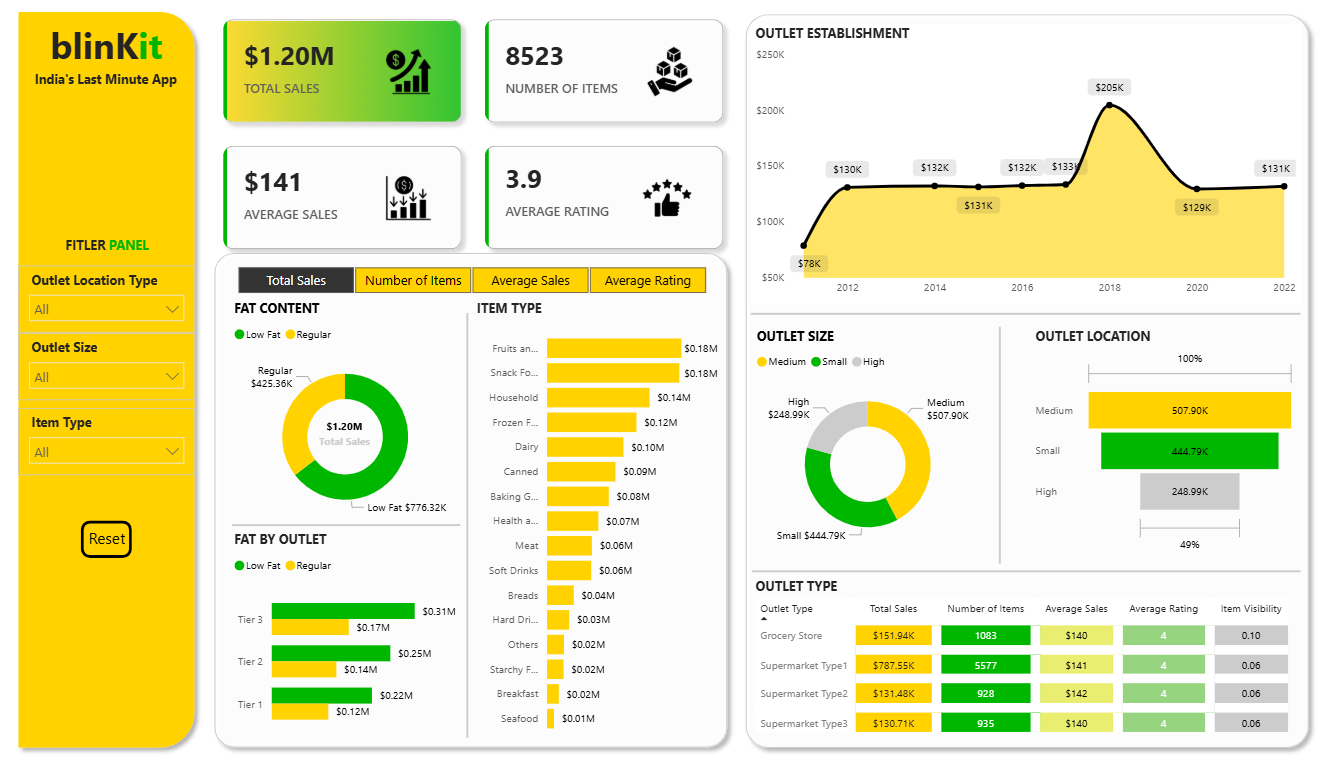

The page's visual inventory and layout, read from the dashboard file:
{"tool":"powerbi","page":{"name":"blinKit Analysis Dashboard","canvas":[1400,800],"ordinal":0},"visuals":[{"type":"shape","box":[18.6,10.5,200.9,780.9],"z":0},{"type":"textbox","box":[50.4,23.2,136.1,67.4],"z":1000},{"type":"textbox","box":[18.6,75.3,199.7,30.5],"z":2000},{"type":"cardVisual","fields":{"Data":["BlinkIT Grocery Data.Total Sales","BlinkIT Grocery Data.Number of Items","BlinkIT Grocery Data.Average Sales","BlinkIT Grocery Data.Average Rating"]},"box":[222.4,9.9,552.9,272.9],"z":3000},{"type":"shape","box":[222.1,261,549.4,530.3],"z":4000},{"type":"donutChart","title":"FAT CONTENT","fields":{"Y":["BlinkIT Grocery Data.Total Sales"],"Category":["BlinkIT Grocery Data.Item Fat Content"]},"box":[246.2,317,240,240],"z":5000},{"type":"slicer","fields":{"Values":["Metrics.Metrics"]},"box":[229.7,277.5,534.2,39.4],"z":6000},{"type":"cardVisual","fields":{"Data":["BlinkIT Grocery Data.Total Sales"]},"box":[295.8,426.3,140,60],"z":7000},{"type":"clusteredBarChart","title":"FAT BY OUTLET","fields":{"Y":["BlinkIT Grocery Data.Total Sales"],"Category":["BlinkIT Grocery Data.Outlet Location Type"],"Series":["BlinkIT Grocery Data.Item Fat Content"]},"box":[246.2,557.3,240.4,220],"z":8000},{"type":"shape","box":[248.8,526.8,236.6,48.3],"z":9000},{"type":"shape","box":[476.4,332.2,31.8,440],"z":10000},{"type":"barChart","title":"ITEM TYPE","fields":{"Y":["BlinkIT Grocery Data.Total Sales"],"Category":["BlinkIT Grocery Data.Item Type"]},"box":[496.8,317,260,460.4],"z":11000},{"type":"shape","box":[771.5,13,601.6,778.3],"z":12000},{"type":"lineChart","title":"OUTLET ESTABLISHMENT","fields":{"Y":["BlinkIT Grocery Data.Total Sales"],"Category":["BlinkIT Grocery Data.Outlet Establishment Year"]},"box":[786.7,32.1,570,290],"z":13000},{"type":"shape","box":[786.7,308.1,569.8,48.3],"z":14000},{"type":"donutChart","title":"OUTLET SIZE","fields":{"Y":["BlinkIT Grocery Data.Total Sales"],"Category":["BlinkIT Grocery Data.Outlet Size"]},"box":[788,346.2,240.4,240],"z":15000},{"type":"funnel","title":"OUTLET LOCATION","fields":{"Y":["Sum(BlinkIT Grocery Data.Sales)"],"Category":["BlinkIT Grocery Data.Outlet Size"]},"box":[1076.7,346.2,280,240],"z":16000},{"type":"pivotTable","title":"OUTLET TYPE","fields":{"Rows":["BlinkIT Grocery Data.Outlet Type"],"Values":["BlinkIT Grocery Data.Total Sales","BlinkIT Grocery Data.Number of Items","BlinkIT Grocery Data.Average Sales","BlinkIT Grocery Data.Average Rating","Avg(BlinkIT Grocery Data.Item Visibility)"]},"box":[786.7,604.4,569.8,173],"z":17000},{"type":"shape","box":[1028.4,346.2,31.8,245.5],"z":18000},{"type":"shape","box":[788,575.1,568.5,48.3],"z":19000},{"type":"slicer","fields":{"Values":["BlinkIT Grocery Data.Outlet Location Type"]},"box":[27.5,282.6,183.1,69.9],"z":20000},{"type":"slicer","fields":{"Values":["BlinkIT Grocery Data.Outlet Size"]},"box":[27.5,352.6,183.1,69.9],"z":21000},{"type":"slicer","fields":{"Values":["BlinkIT Grocery Data.Item Type"]},"box":[27.5,430.2,183.1,69.9],"z":22000},{"type":"textbox","box":[58,247,122.1,28],"z":23000},{"type":"actionButton","box":[92,546.6,53.1,38.9],"z":24000}]}

Visuals, with their boxes in screenshot pixels (x1, y1, x2, y2), scaled from the page's 1400x800 canvas onto the 1329x762 screenshot:
shape: (left=18, top=10, right=208, bottom=754)
textbox: (left=48, top=22, right=177, bottom=86)
textbox: (left=18, top=72, right=207, bottom=101)
cardVisual - BlinkIT Grocery Data.Total Sales x BlinkIT Grocery Data.Number of Items: (left=211, top=9, right=736, bottom=269)
shape: (left=211, top=249, right=732, bottom=754)
"FAT CONTENT" donutChart: (left=234, top=302, right=462, bottom=531)
slicer - Metrics.Metrics: (left=218, top=264, right=725, bottom=302)
cardVisual - BlinkIT Grocery Data.Total Sales: (left=281, top=406, right=414, bottom=463)
"FAT BY OUTLET" clusteredBarChart: (left=234, top=531, right=462, bottom=740)
shape: (left=236, top=502, right=461, bottom=548)
shape: (left=452, top=316, right=482, bottom=736)
"ITEM TYPE" barChart: (left=472, top=302, right=718, bottom=740)
shape: (left=732, top=12, right=1303, bottom=754)
"OUTLET ESTABLISHMENT" lineChart: (left=747, top=31, right=1288, bottom=307)
shape: (left=747, top=293, right=1288, bottom=339)
"OUTLET SIZE" donutChart: (left=748, top=330, right=976, bottom=558)
"OUTLET LOCATION" funnel: (left=1022, top=330, right=1288, bottom=558)
"OUTLET TYPE" pivotTable: (left=747, top=576, right=1288, bottom=740)
shape: (left=976, top=330, right=1006, bottom=564)
shape: (left=748, top=548, right=1288, bottom=594)
slicer - BlinkIT Grocery Data.Outlet Location Type: (left=26, top=269, right=200, bottom=336)
slicer - BlinkIT Grocery Data.Outlet Size: (left=26, top=336, right=200, bottom=402)
slicer - BlinkIT Grocery Data.Item Type: (left=26, top=410, right=200, bottom=476)
textbox: (left=55, top=235, right=171, bottom=262)
actionButton: (left=87, top=521, right=138, bottom=558)
